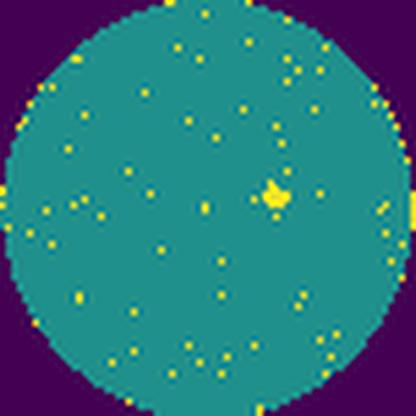Loc: (261, 178, 292, 208)
